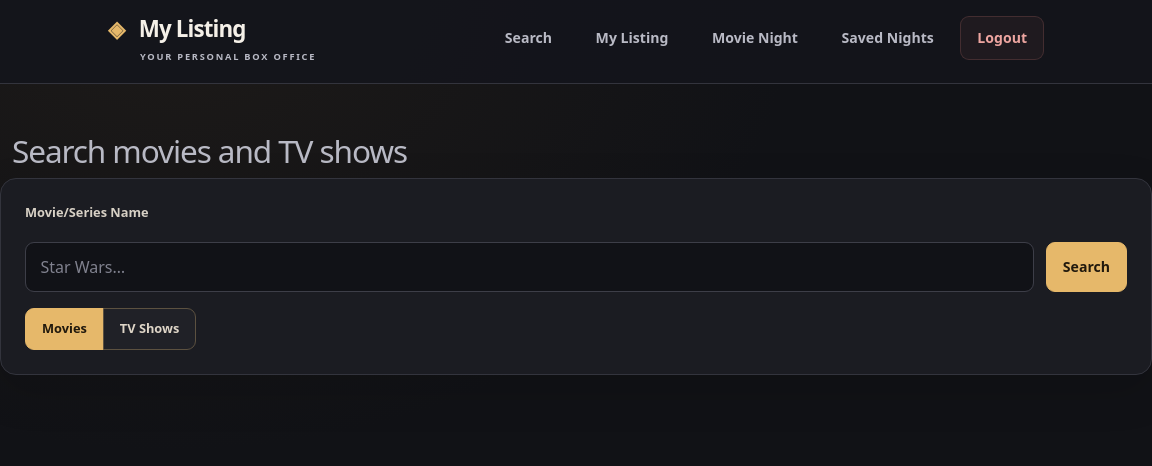
session lifecycle › shows logout errors without hiding authenticated navigation
Click the button "Logout" at (1002, 38), box top-left (960, 16), bottom-right (1044, 60)
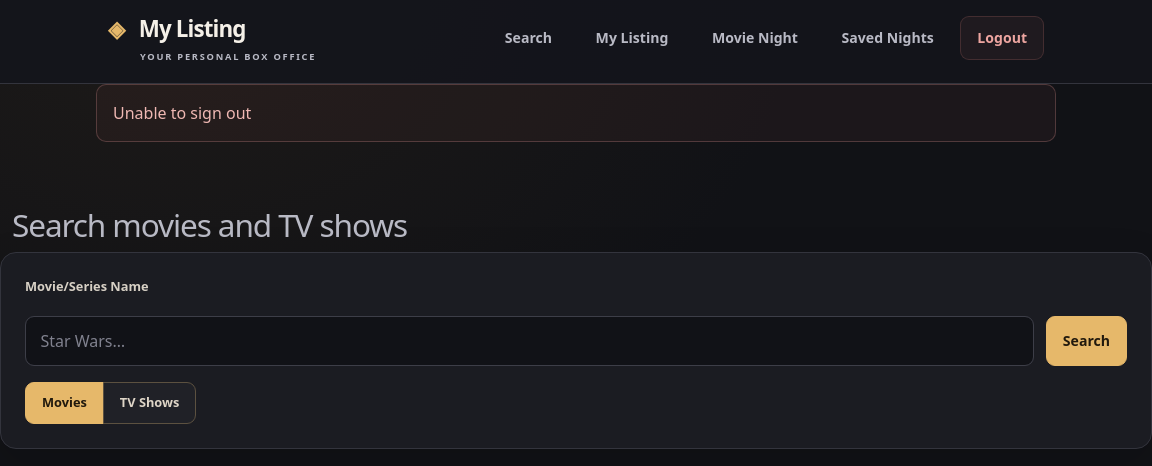
Expected: the button "My Listing" is shown, top-left (579, 16), bottom-right (685, 60)
Now the text "Unable to sign out" is shown, box top-left (96, 84), bottom-right (1056, 142)
